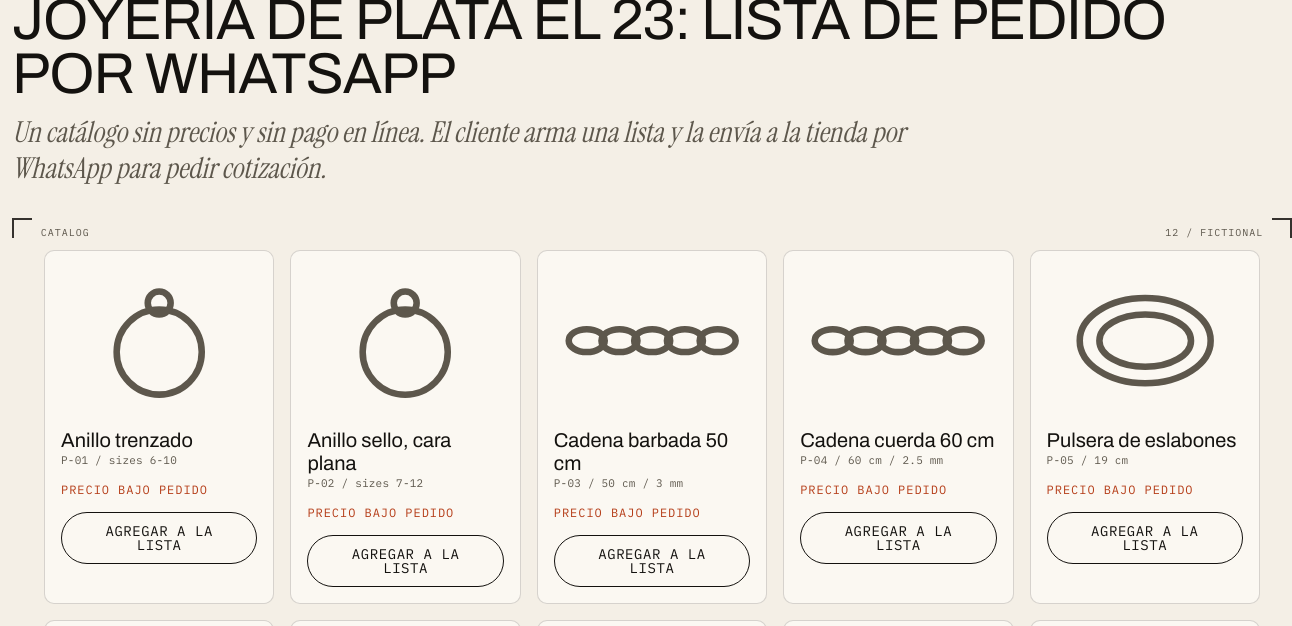
Scenario: la interfaz agrega piezas y arma el mensaje
The width and height of the screenshot is (1292, 626).
Click the button with aria-label "Agregar a la lista: Anillo trenzado" at (159, 538), box x1=61 y1=512 x2=257 y2=564
(page scrolled)
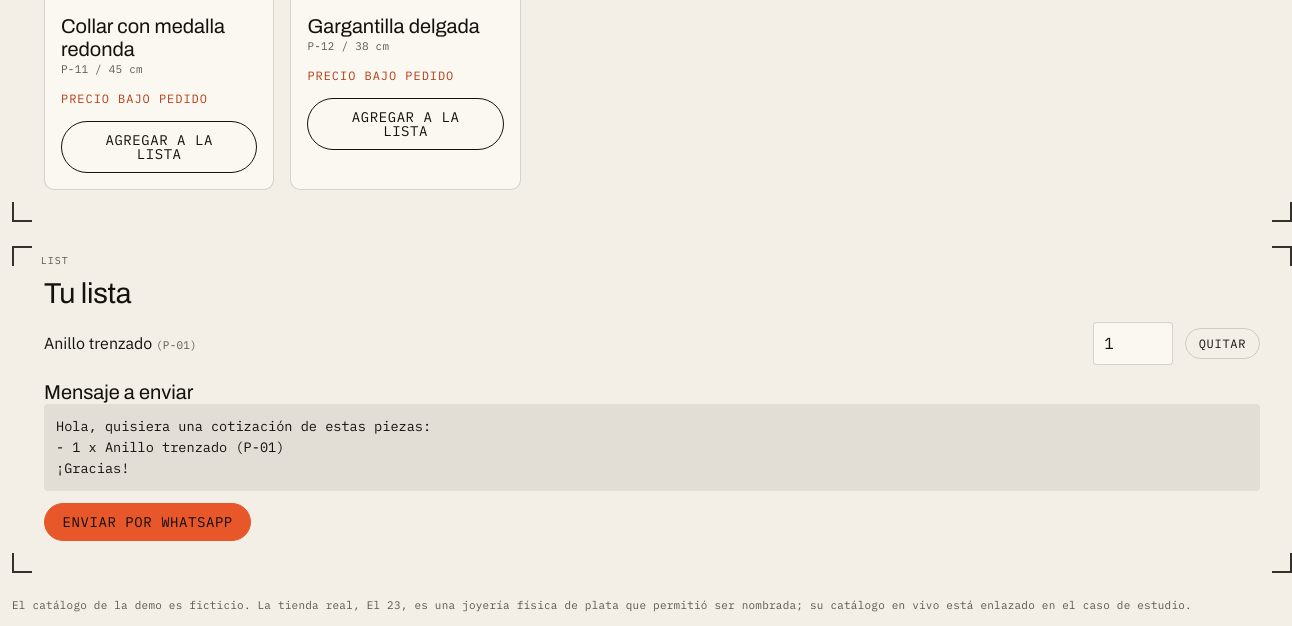
Expected: the text with test id "message" shows "1 x Anillo trenzado (P-01)", x1=56 y1=417 x2=431 y2=477
